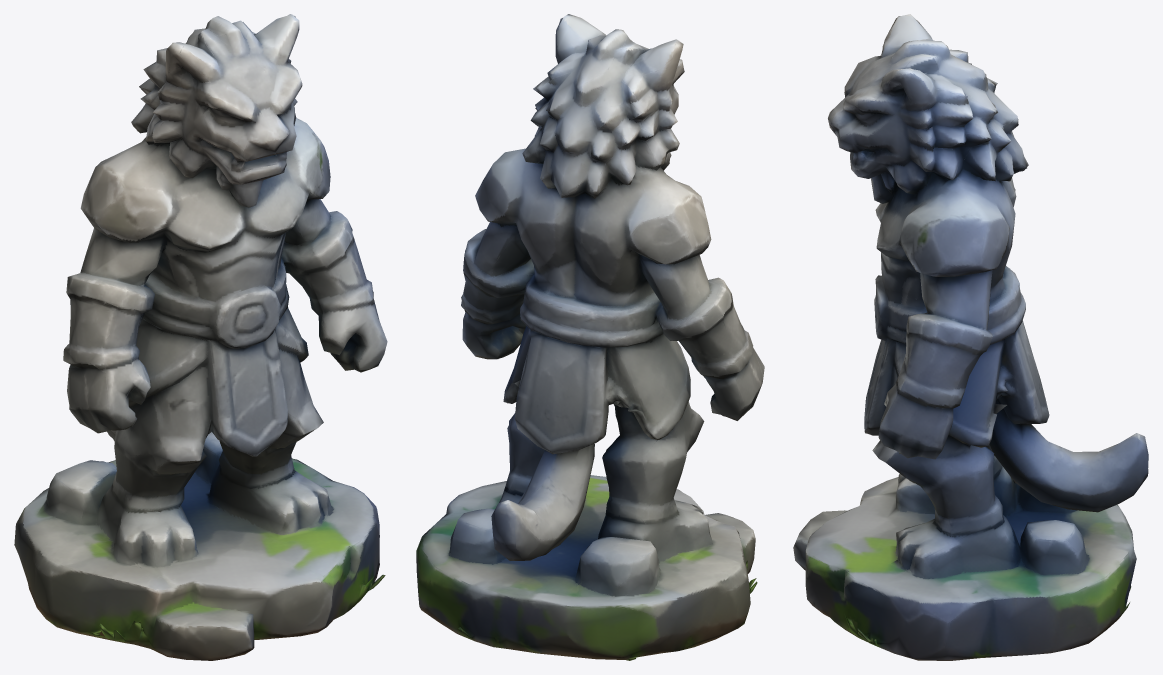
The model's file is crypt_StatueGuardian.glb.
3 views of the same model, side by side, from view 1: azimuth 30°, elevation 25°; view 2: azimuth 150°, elevation 25°; view 3: azimuth 270°, elevation 25° (orthographic). The views are drawn at different scales.
Parts seen in each view (by area): view 1: world; view 2: world; view 3: world.
Boxes of the visible parts, left/top/right/bottom form: world: left=14, top=14, right=387, bottom=660; world: left=416, top=14, right=764, bottom=660; world: left=793, top=14, right=1148, bottom=660.
Bounding box in the file's own units: 0.5856 × 0.9988 × 0.5832.
Materials: 1 (1 with a texture image).
